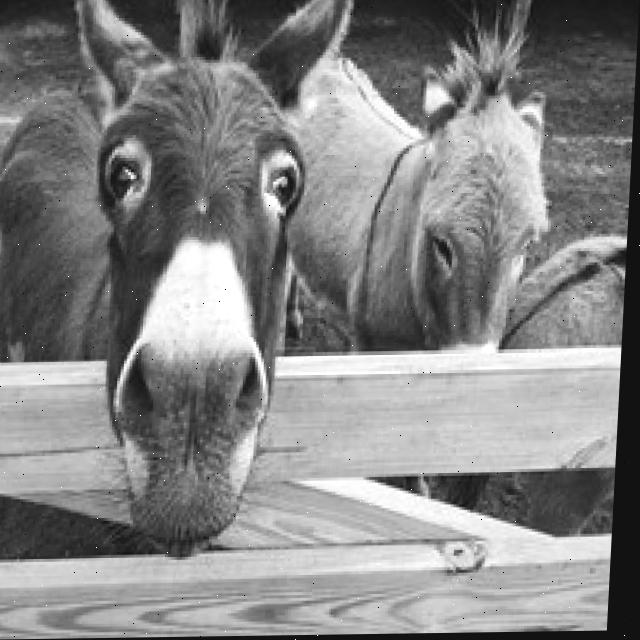Donkey: (39, 0, 357, 553), (251, 0, 563, 505), (486, 231, 625, 535)
